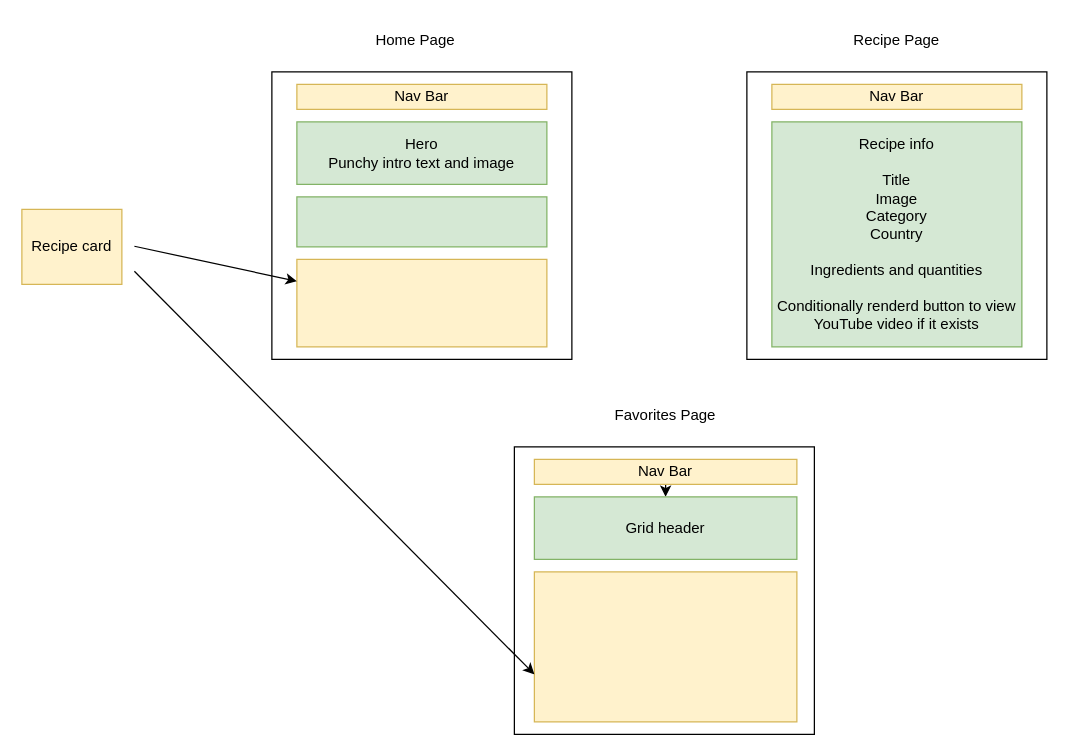
The diagram is 1069 pixels wide and 756 high, and some of its shapes have lost their labels. Here are the shapes that lost their labels. From the top down, the centre of each, then its label:
At (421,221): "Search bar and button".
At (421,302): "Recipe grid (scrollable conatiner with API data)".
At (665,646): "Recipe grid (scrollable conatiner with favorites data from local storage)".
